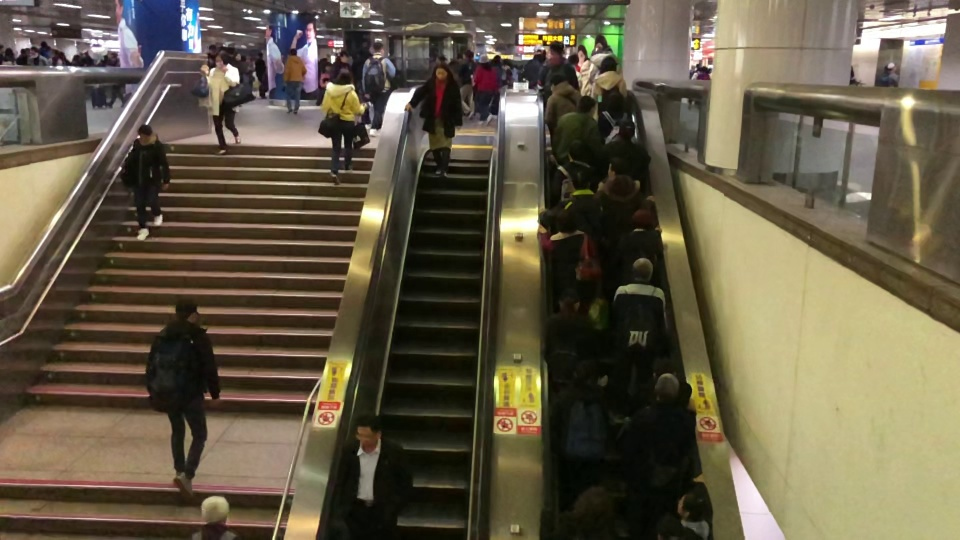person_head: (572, 484, 612, 524), (353, 410, 382, 451), (200, 493, 229, 525), (654, 512, 685, 540), (653, 372, 680, 404), (676, 491, 703, 523), (572, 358, 599, 387), (173, 299, 201, 324), (629, 256, 654, 284), (555, 208, 577, 235), (570, 166, 592, 191), (558, 288, 580, 313), (606, 157, 630, 179), (630, 207, 654, 229), (604, 90, 625, 115), (617, 118, 636, 143), (549, 71, 569, 92), (576, 96, 596, 117), (431, 62, 450, 82), (598, 56, 618, 75), (333, 67, 352, 86), (214, 50, 230, 70), (549, 41, 564, 62), (137, 124, 153, 143), (532, 46, 547, 62), (461, 48, 473, 64), (592, 45, 613, 54), (372, 42, 384, 55), (478, 54, 489, 68), (568, 52, 579, 65), (338, 50, 349, 62), (322, 61, 333, 73), (885, 62, 897, 73), (3, 46, 14, 57), (108, 52, 118, 63), (232, 51, 241, 63), (492, 54, 501, 66), (208, 44, 217, 55), (50, 48, 59, 58), (29, 46, 38, 55), (40, 40, 48, 49), (289, 48, 297, 57), (700, 66, 708, 74), (695, 63, 701, 73), (256, 52, 263, 60)
person_vbox: (153, 298, 221, 498), (617, 372, 697, 540), (330, 410, 415, 540), (546, 358, 616, 513), (609, 256, 672, 401), (403, 61, 463, 178), (535, 208, 599, 312), (542, 288, 604, 392), (319, 67, 369, 185), (120, 124, 170, 241), (550, 484, 637, 540), (536, 166, 607, 234), (198, 50, 241, 155), (613, 207, 664, 286), (602, 118, 652, 193), (551, 95, 603, 164), (360, 42, 396, 137), (592, 157, 641, 224), (537, 42, 580, 113), (182, 493, 245, 540), (542, 71, 583, 140), (471, 53, 497, 126), (588, 56, 627, 104), (281, 47, 308, 115), (675, 490, 710, 540), (598, 90, 633, 139), (588, 45, 621, 86), (103, 51, 125, 109), (458, 48, 475, 119), (521, 46, 547, 89), (489, 54, 503, 120), (315, 61, 333, 106), (693, 66, 711, 106), (332, 50, 352, 84), (687, 63, 701, 108), (255, 51, 267, 99), (27, 45, 47, 66), (883, 62, 899, 88), (37, 39, 54, 59), (1, 46, 17, 65), (47, 47, 63, 65), (568, 51, 581, 72)
